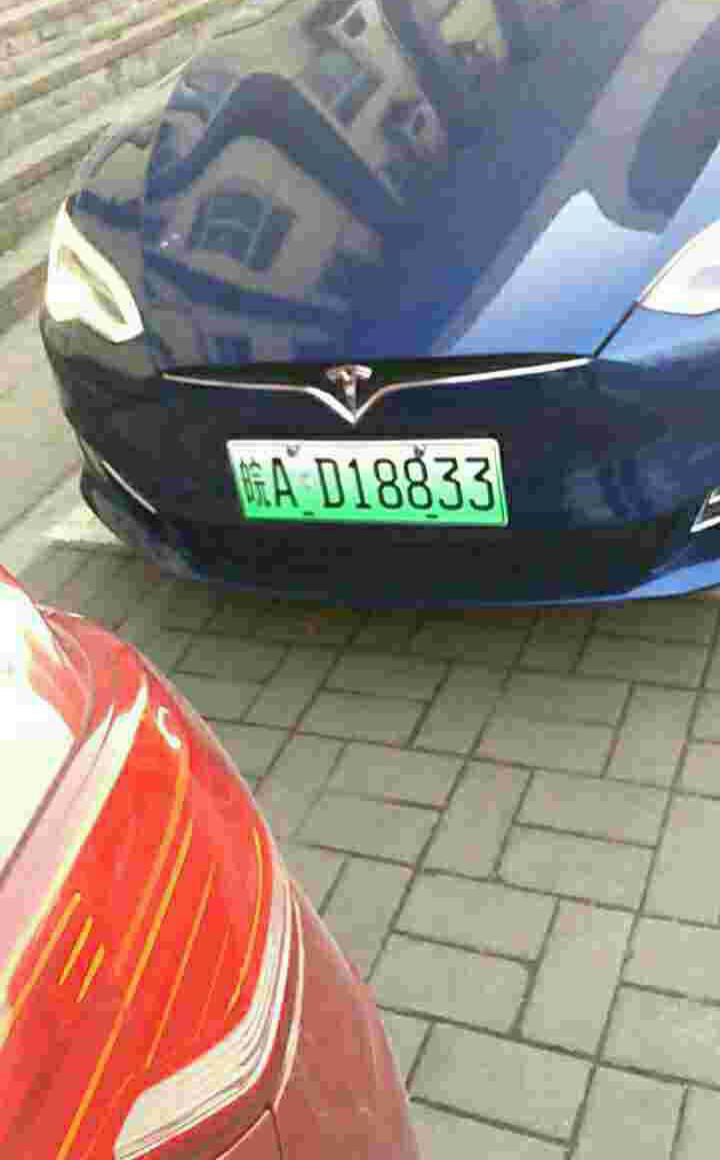car_id: (226, 437, 508, 523)
